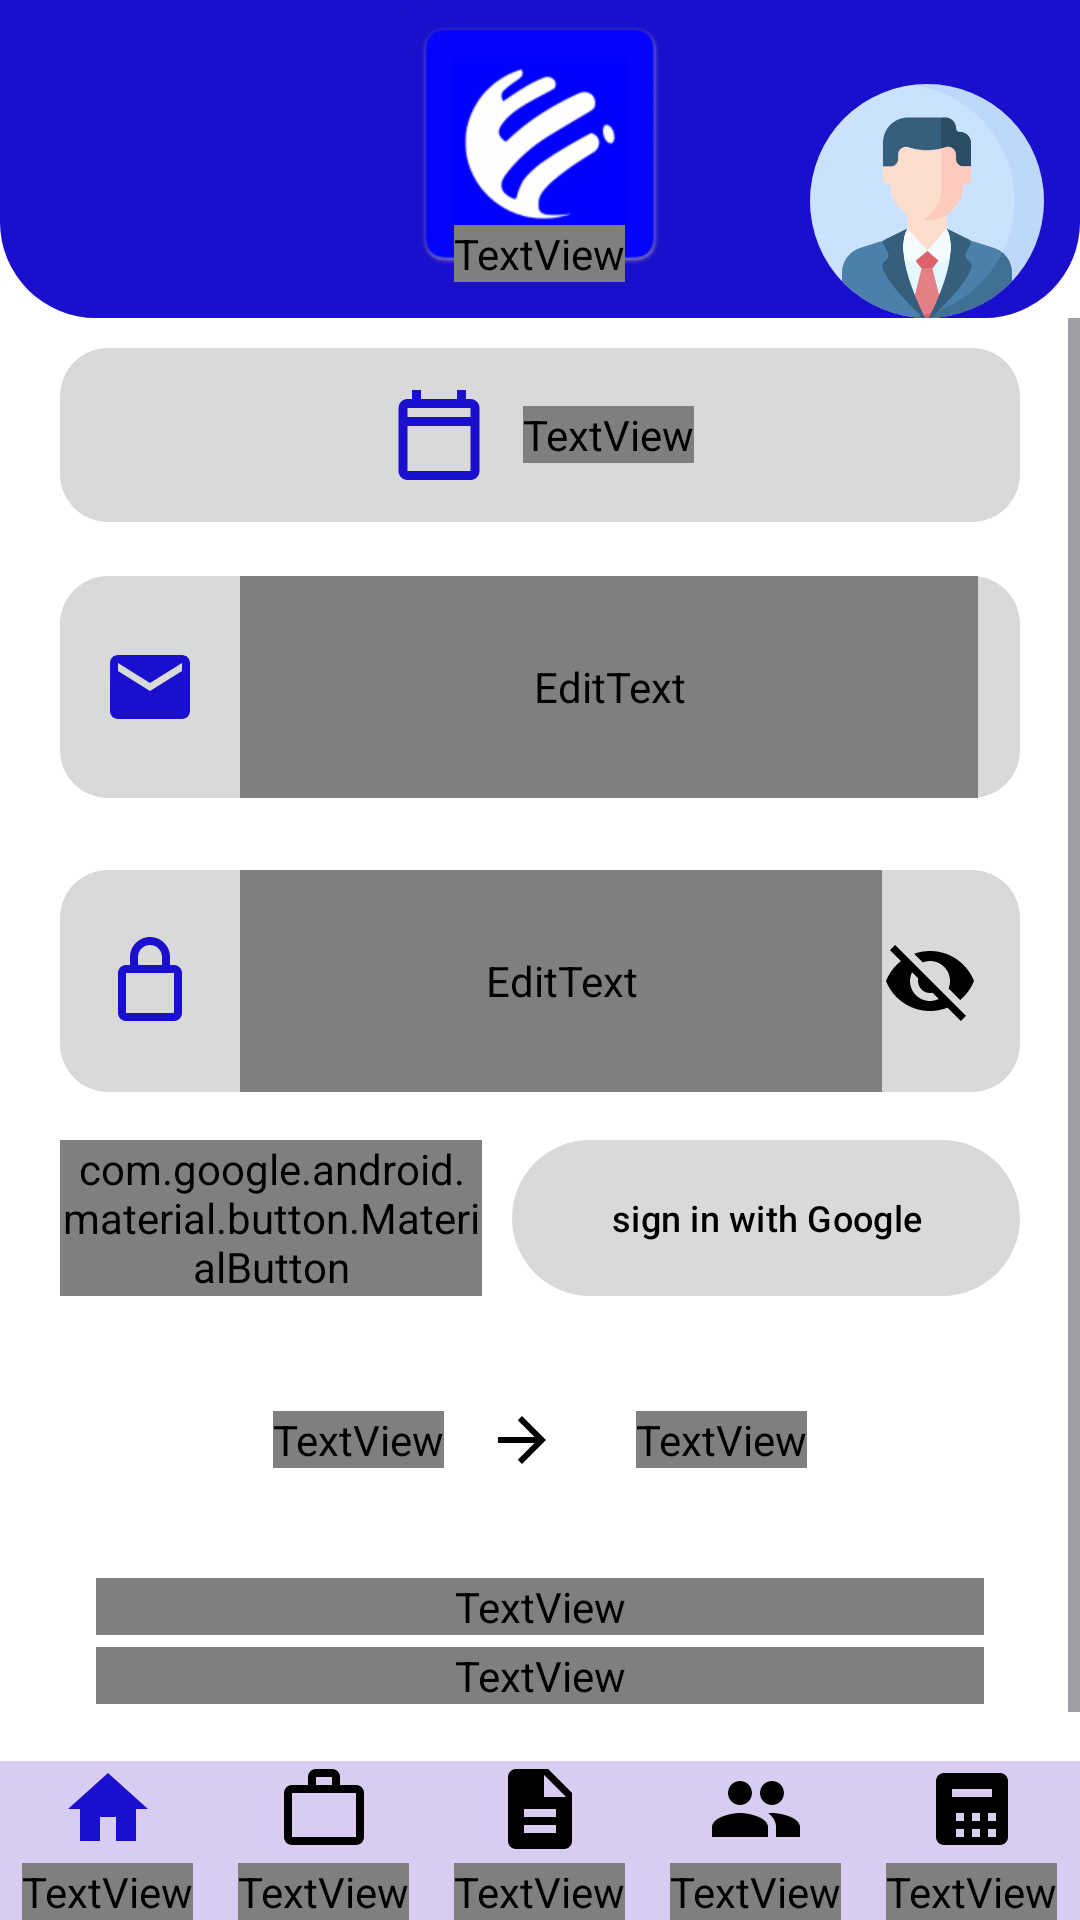

Icon click points for this 1080 x 1920 phone screenshot, format [x,y]:
lock: [150,979]
Profile photo: [927,201]
visibility off: [930,983]
